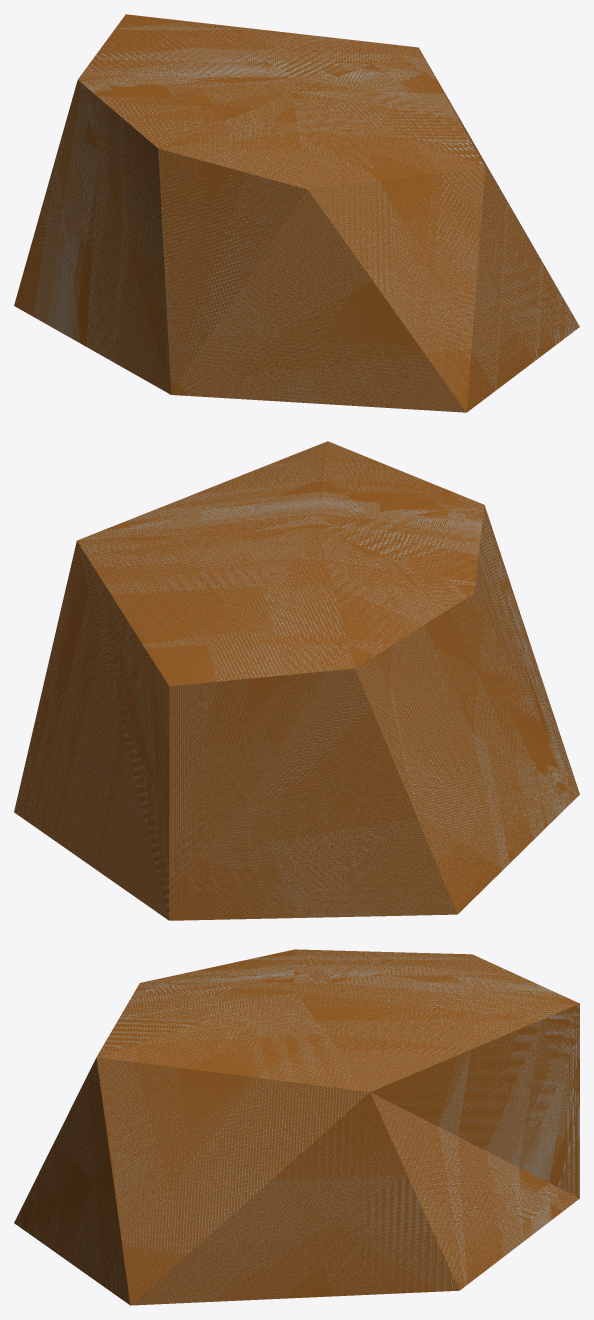
Rendered from Rock_Small_Dirt_03.fbx.
3 views of the same model, one above another, from view 1: azimuth 30°, elevation 25°; view 2: azimuth 150°, elevation 25°; view 3: azimuth 270°, elevation 25° (orthographic). The views are drawn at different scales.
Parts seen in each view (by area): view 1: Model; view 2: Model; view 3: Model.
Boxes of the visible parts, bbox=[...] form: Model: bbox=[14, 14, 579, 412]; Model: bbox=[14, 441, 579, 920]; Model: bbox=[14, 949, 579, 1305].
Size of the model in its own units: 107 by 70.36 by 133.
